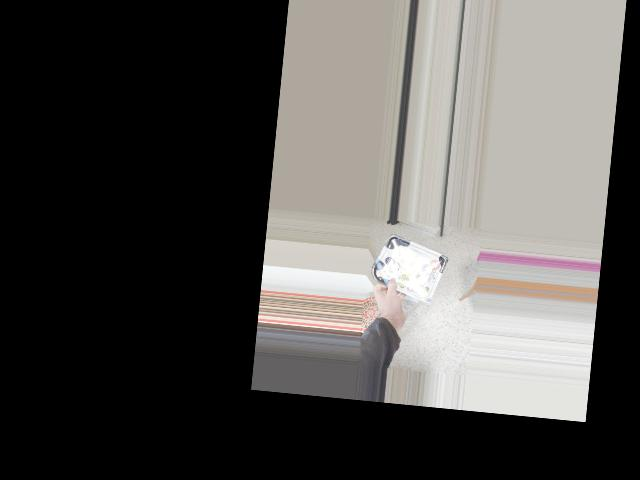cheese: (374, 240, 441, 292)
